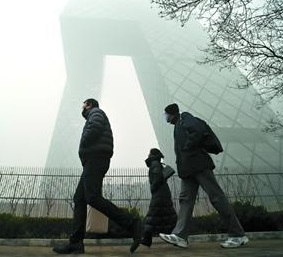person: (45, 96, 149, 255), (158, 101, 254, 253), (138, 144, 179, 248)
